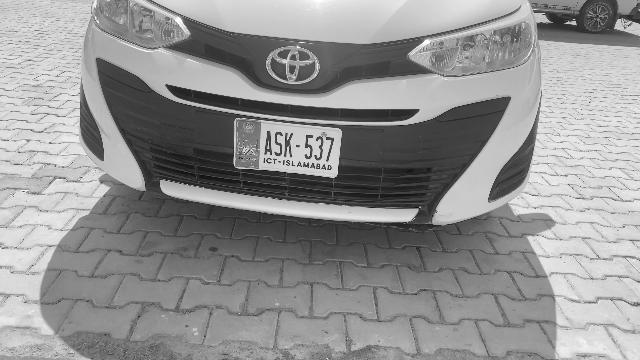Number: (262, 130, 336, 163)
